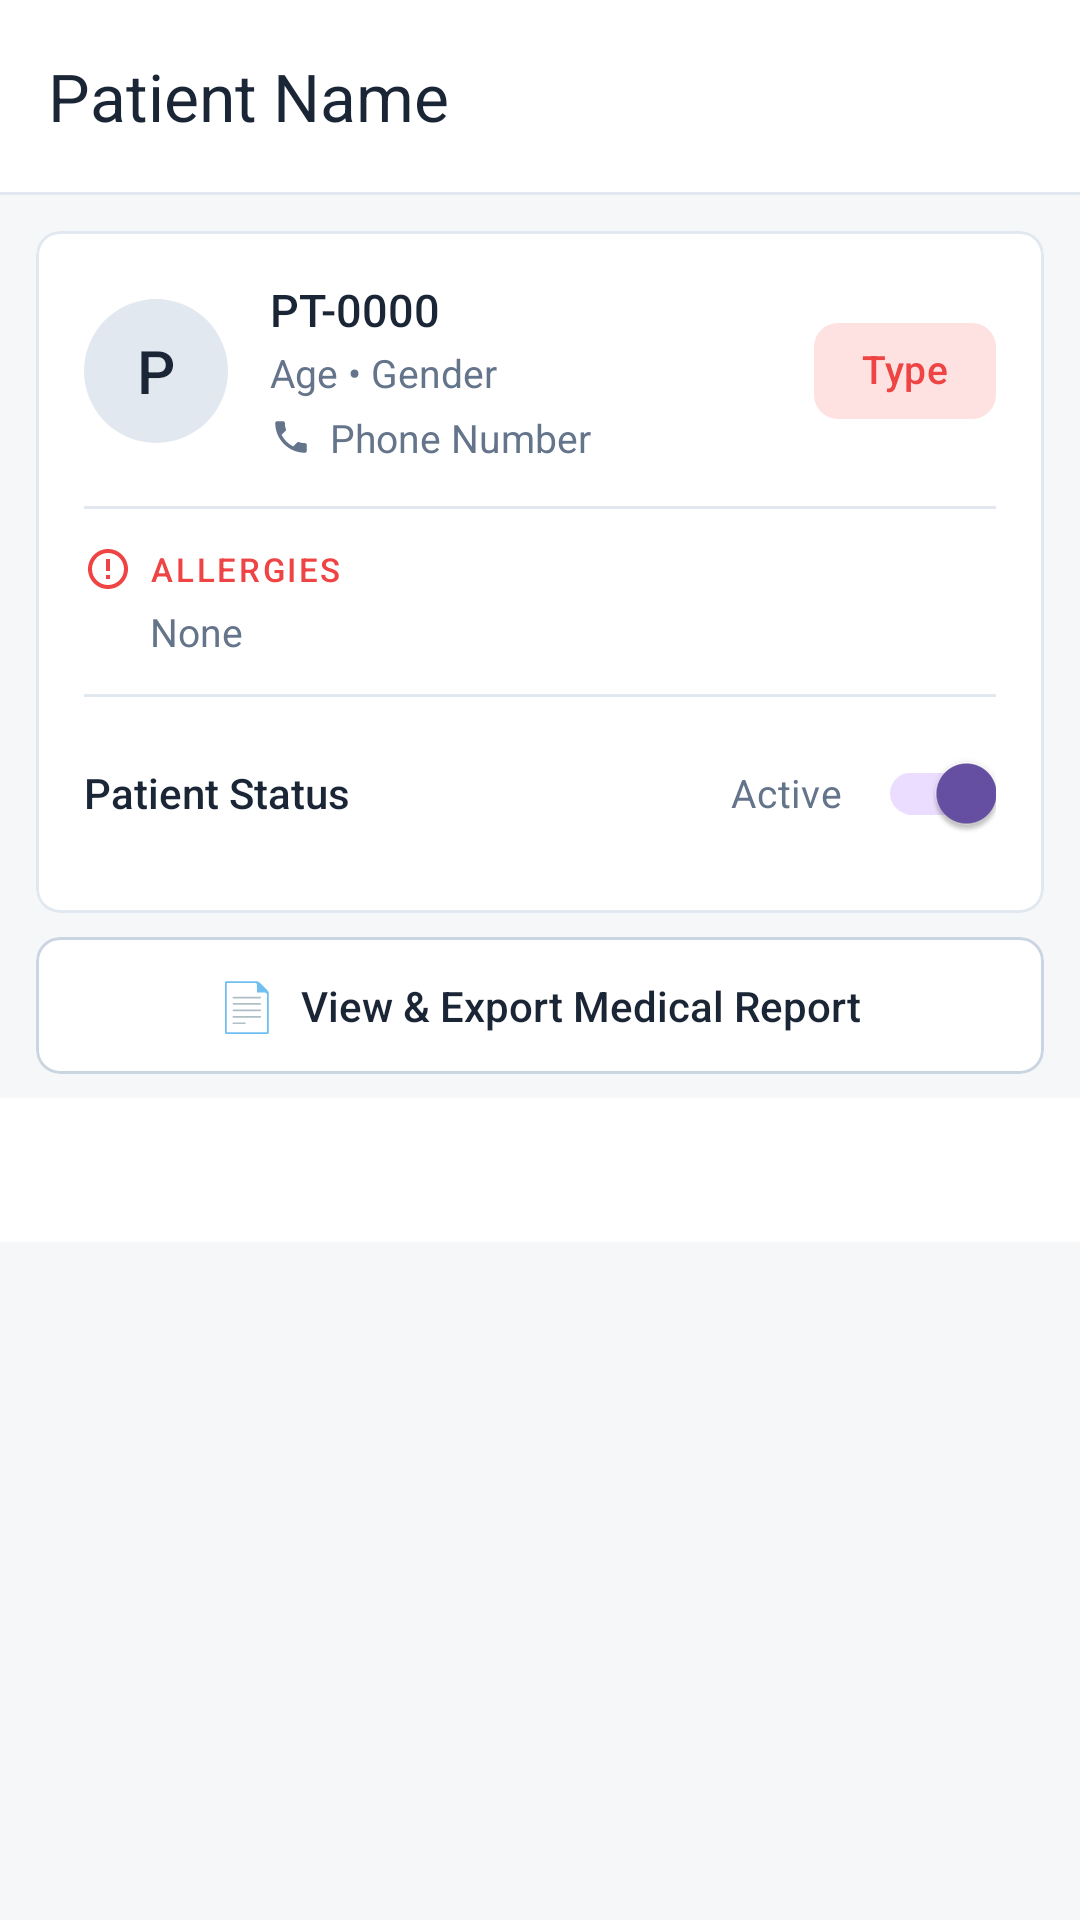

Icon click points for this 1080w x 1920h phone screenshot, format (x,y):
alert: (108,569)
